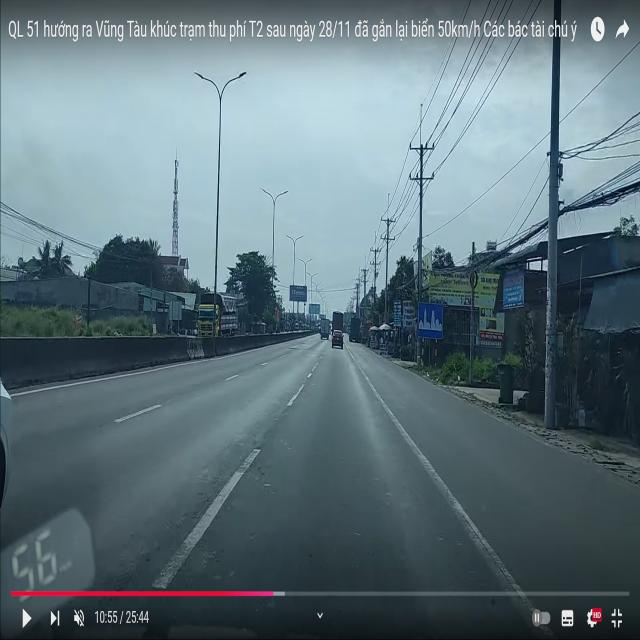Bien hieu lenh bat dau khu dong dan cu: (416, 300, 445, 342)
